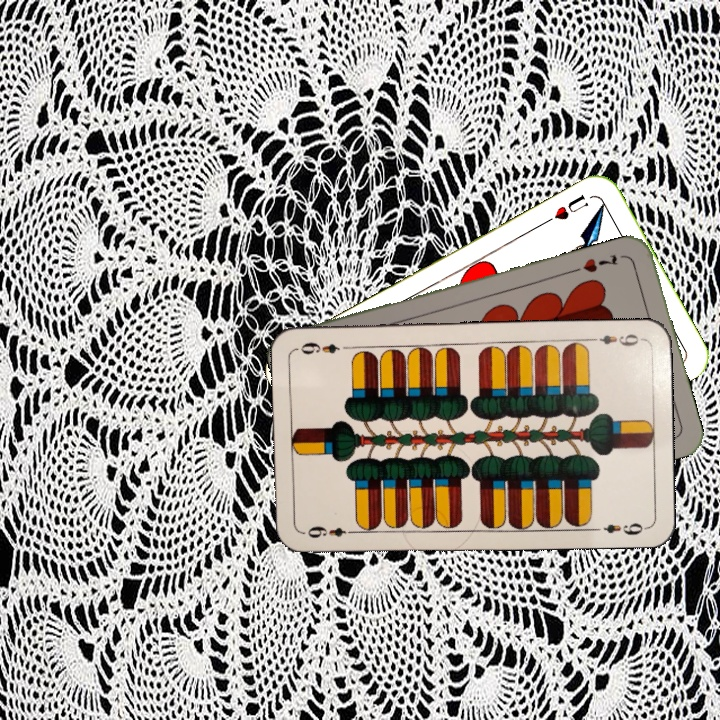E9: (586, 330, 645, 349), (304, 522, 359, 540)
H7: (579, 250, 621, 275)
HU: (540, 190, 591, 227)
